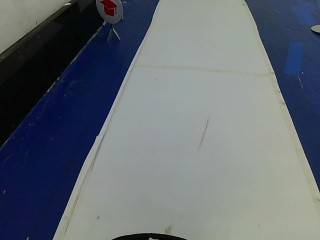school: (94, 0, 122, 23)
